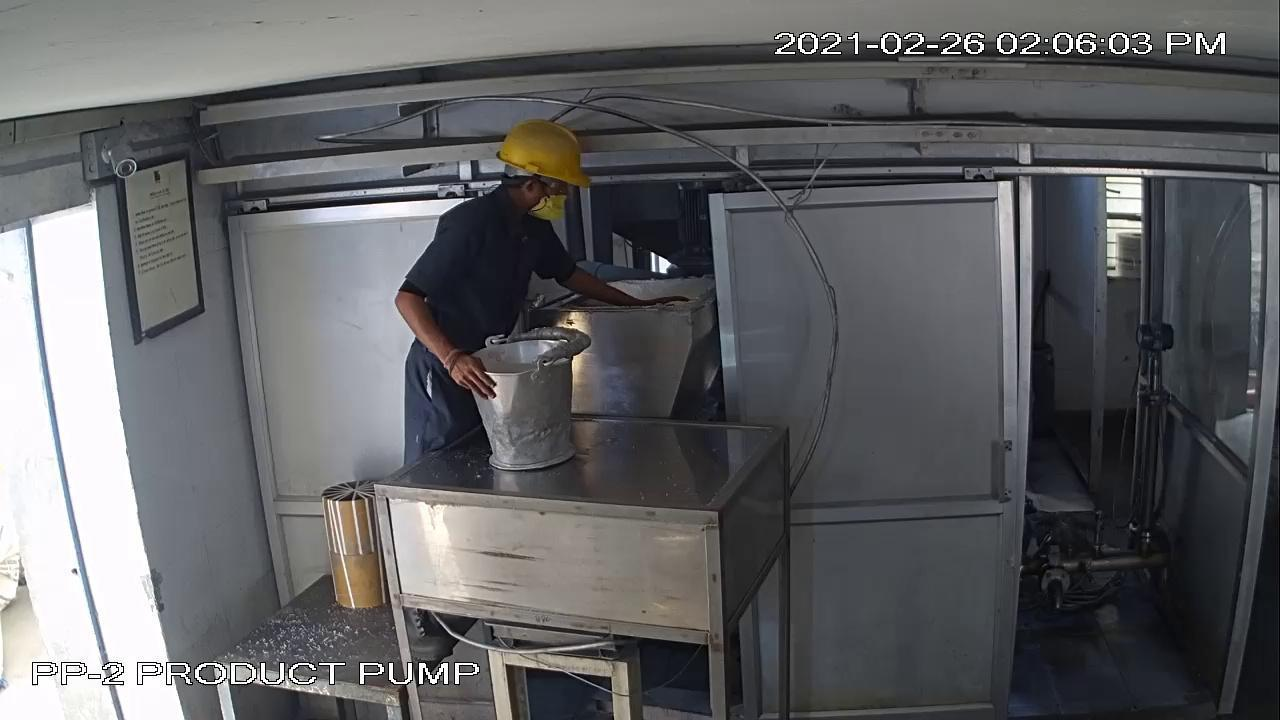helmet: (493, 117, 596, 192)
